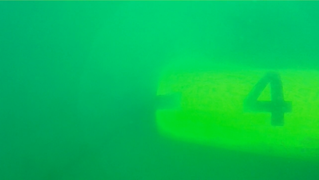4: (245, 71, 293, 126)
pipe: (155, 59, 318, 161)
